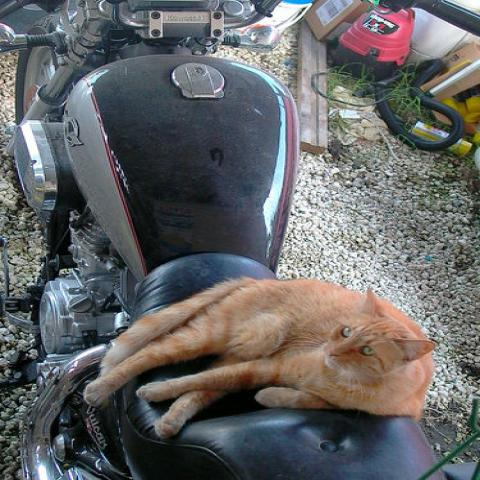motorcycle: (0, 3, 446, 472)
